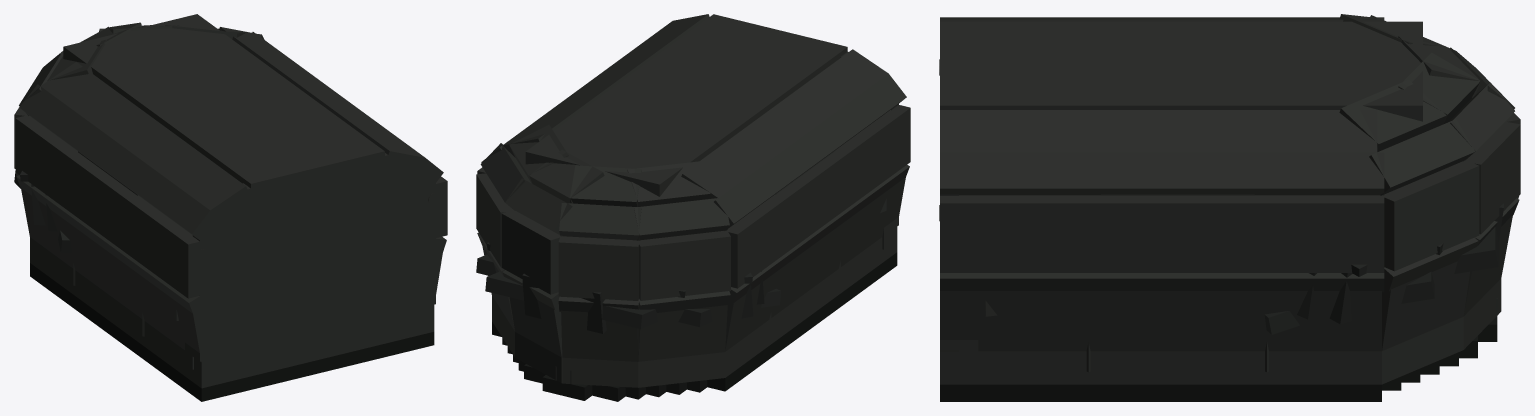
Rendered from jiashicang_v1.gltf.
3 views of the same model, side by side, from view 1: azimuth 30°, elevation 25°; view 2: azimuth 150°, elevation 25°; view 3: azimuth 270°, elevation 25° (orthographic). The views are drawn at different scales.
Visible parts, largest first — view 1: Overhead (×8), Aft Bulkhead (×6), Bulkhead (×7), Base; view 2: Overhead (×13), Bulkhead (×19), Base (×3), Controller (×2), Monitor; view 3: Bulkhead (×11), Overhead (×11), Base, Controller (×3), Monitor.
Boxes of the visible parts, x1=… form: Overhead (×8): x1=19, y1=14, x2=425, y2=240; Aft Bulkhead (×6): x1=192, y1=153, x2=435, y2=384; Bulkhead (×7): x1=15, y1=115, x2=447, y2=388; Base: x1=30, y1=263, x2=434, y2=401; Overhead (×13): x1=480, y1=14, x2=906, y2=240; Bulkhead (×19): x1=476, y1=105, x2=910, y2=387; Base (×3): x1=492, y1=252, x2=897, y2=401; Controller (×2): x1=476, y1=254, x2=712, y2=329; Monitor: x1=522, y1=273, x2=606, y2=333; Bulkhead (×11): x1=940, y1=122, x2=1520, y2=384; Overhead (×11): x1=940, y1=14, x2=1514, y2=195; Base: x1=940, y1=384, x2=1381, y2=401; Controller (×3): x1=1264, y1=227, x2=1498, y2=334; Monitor: x1=1329, y1=273, x2=1352, y2=324.
Size of the model in its own units: 10.46 by 7.68 by 15.12.
Materials: 1 (1 with a texture image).
